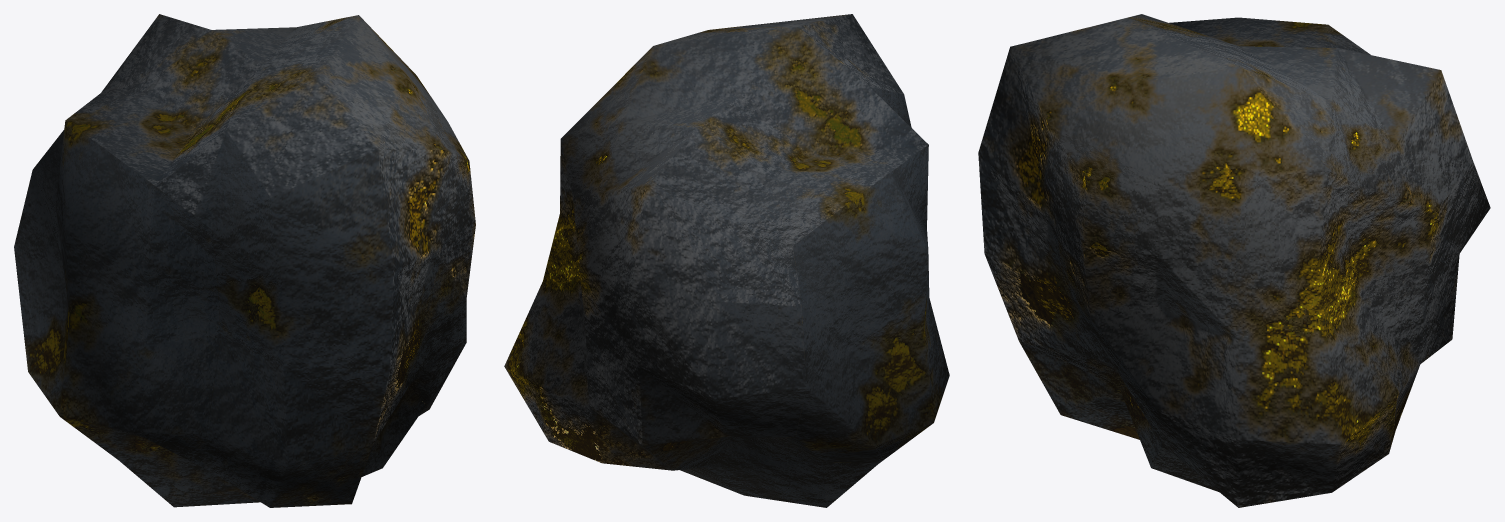
File: gold1.fbx
3 renders of one model, left to right at view 1: azimuth 30°, elevation 25°; view 2: azimuth 150°, elevation 25°; view 3: azimuth 270°, elevation 25°, orthographic. The views are drawn at different scales.
Visible parts, largest first — view 1: gold1; view 2: gold1; view 3: gold1.
Part boxes in pixels (<box>): gold1: <box>14,14,475,507</box>; gold1: <box>504,14,949,507</box>; gold1: <box>978,14,1490,507</box>.
Bounding box in the file's own units: 40.58 × 43.72 × 44.86.
